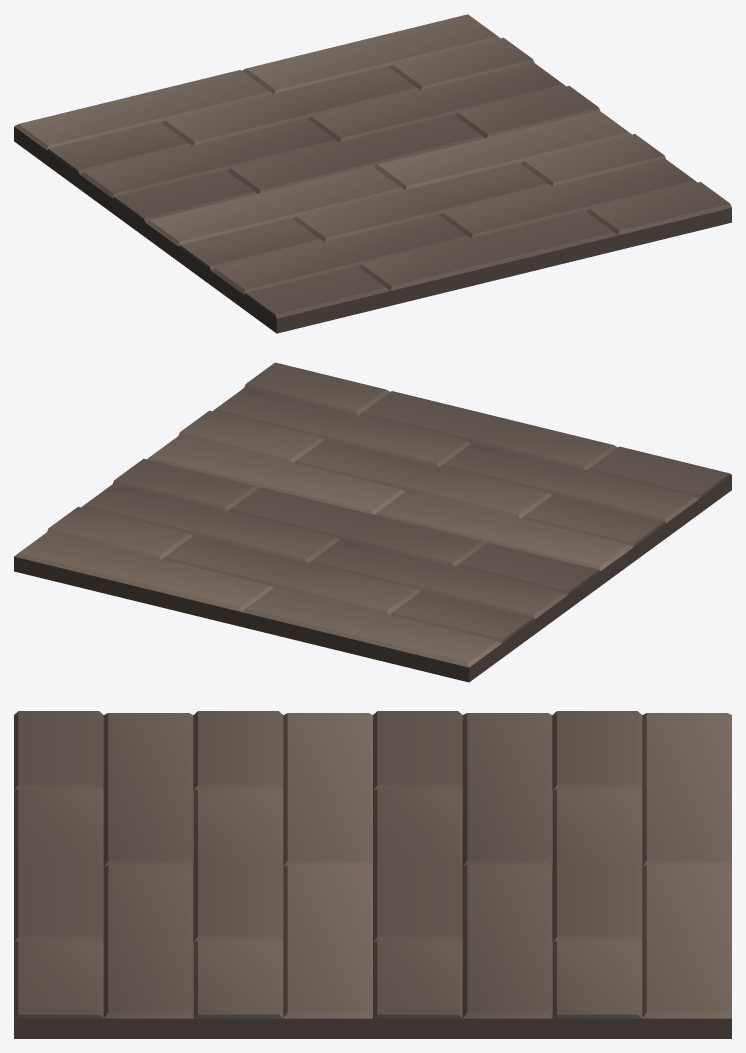
The model's file is floor_wood_large_dark.obj.
3 renders of one model, top to bottom at view 1: azimuth 30°, elevation 25°; view 2: azimuth 150°, elevation 25°; view 3: azimuth 270°, elevation 25°, orthographic. The views are drawn at different scales.
Visible parts, largest first — view 1: floor_wood_large_dark; view 2: floor_wood_large_dark; view 3: floor_wood_large_dark.
Part boxes in pixels (x1=…): floor_wood_large_dark: x1=14, y1=14, x2=731, y2=333; floor_wood_large_dark: x1=14, y1=362, x2=731, y2=682; floor_wood_large_dark: x1=14, y1=711, x2=731, y2=1038.
Size of the model in its own units: 4 by 0.15 by 4.
1 material, 1 textured.
